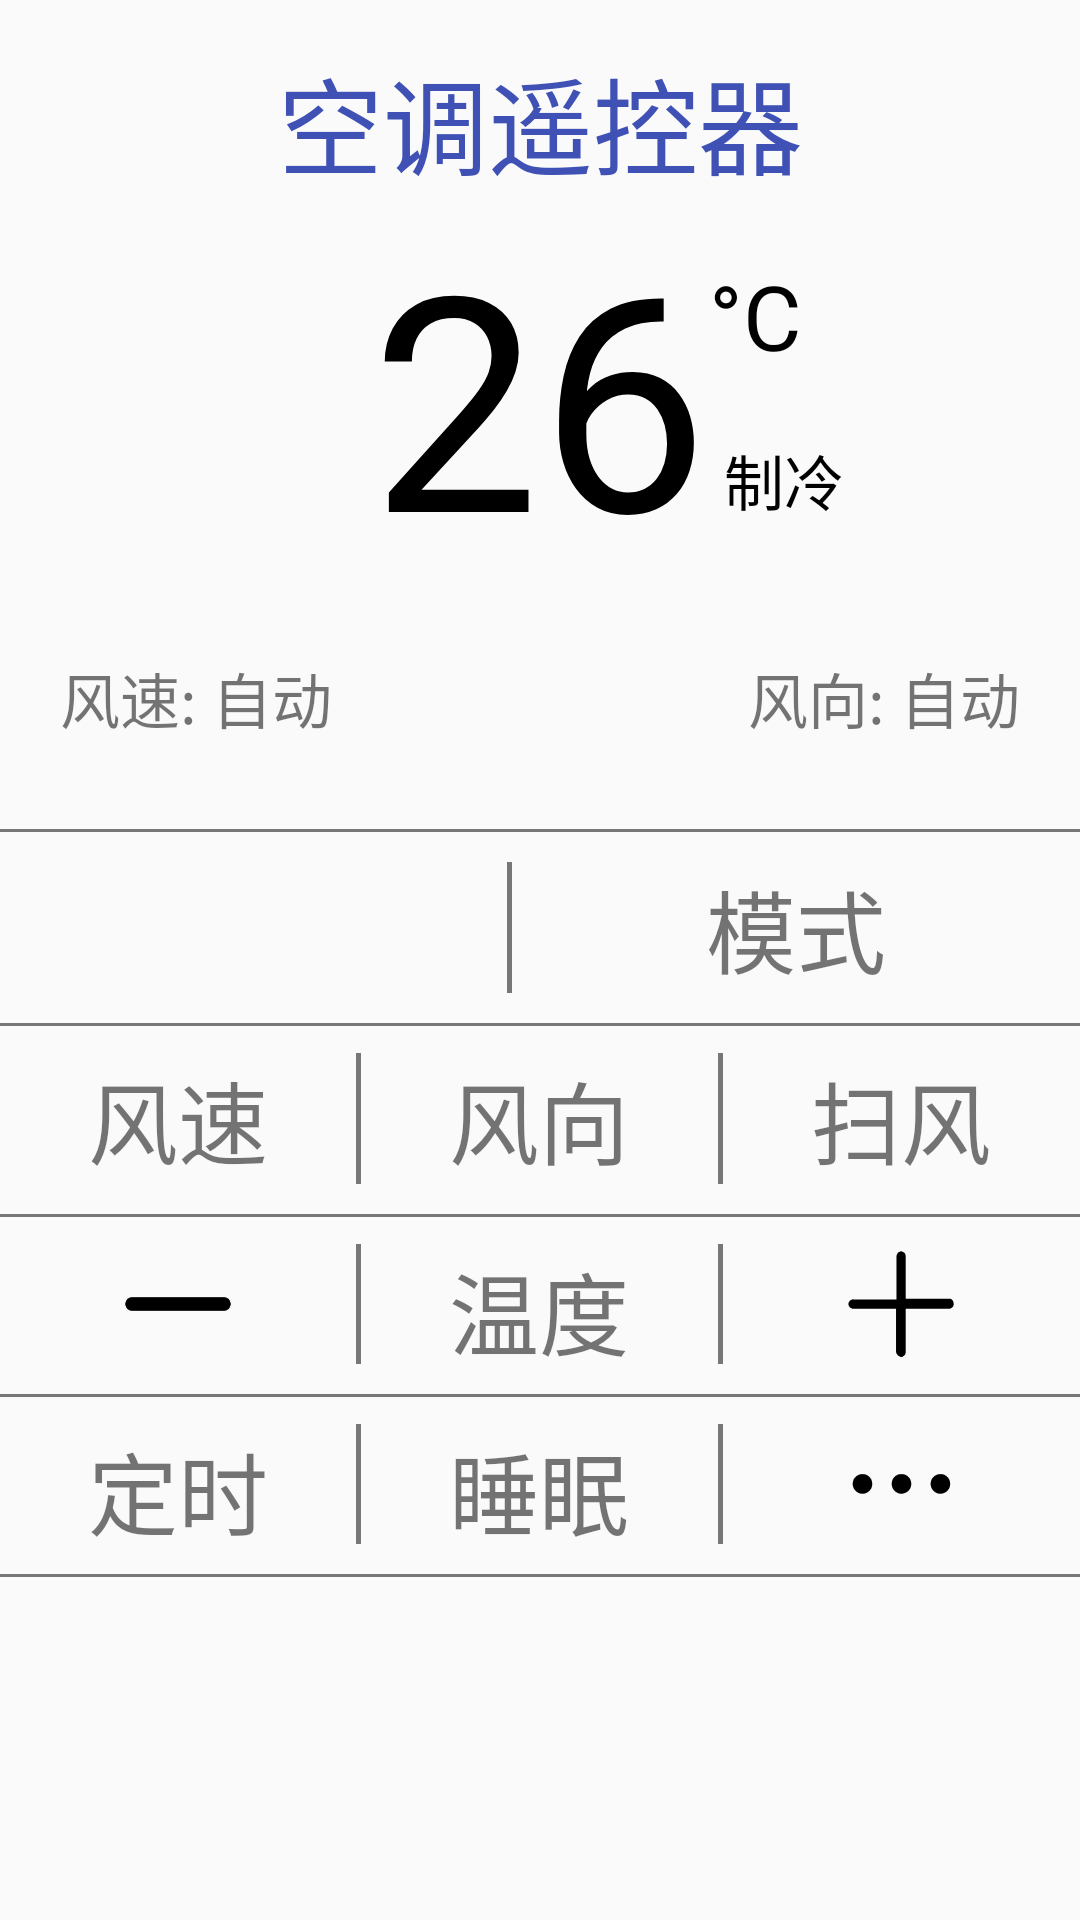

Named icons in this screenshot (1080×1920) and their bounding boxes, {"x1": x1, "y1": y1, "x2": x2, "y2": y2}:
increase: {"x1": 848, "y1": 1251, "x2": 954, "y2": 1357}
more: {"x1": 852, "y1": 1474, "x2": 951, "y2": 1494}
